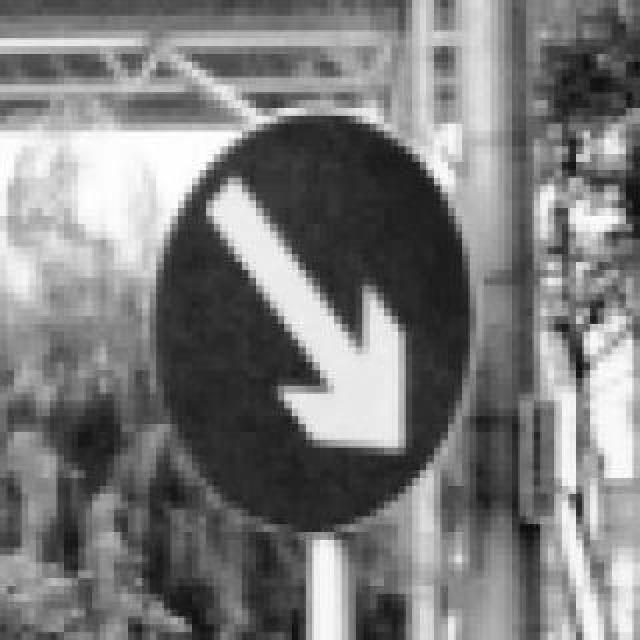keep right: (122, 92, 484, 548)
